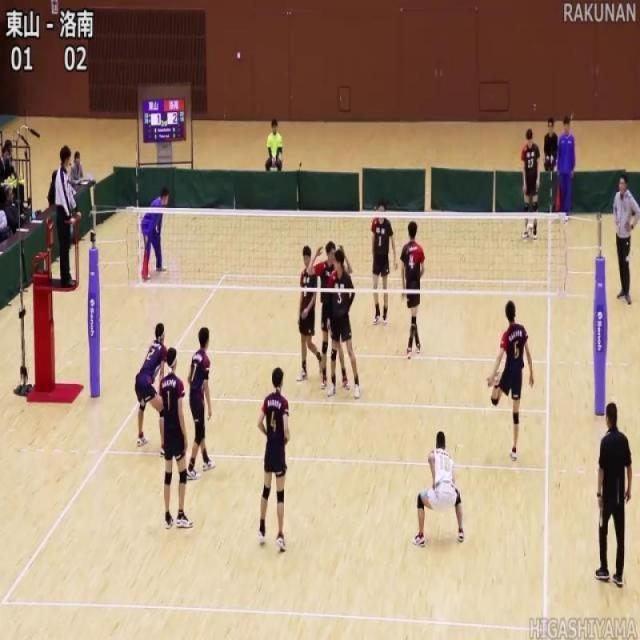volleyball: (526, 220, 534, 238)
